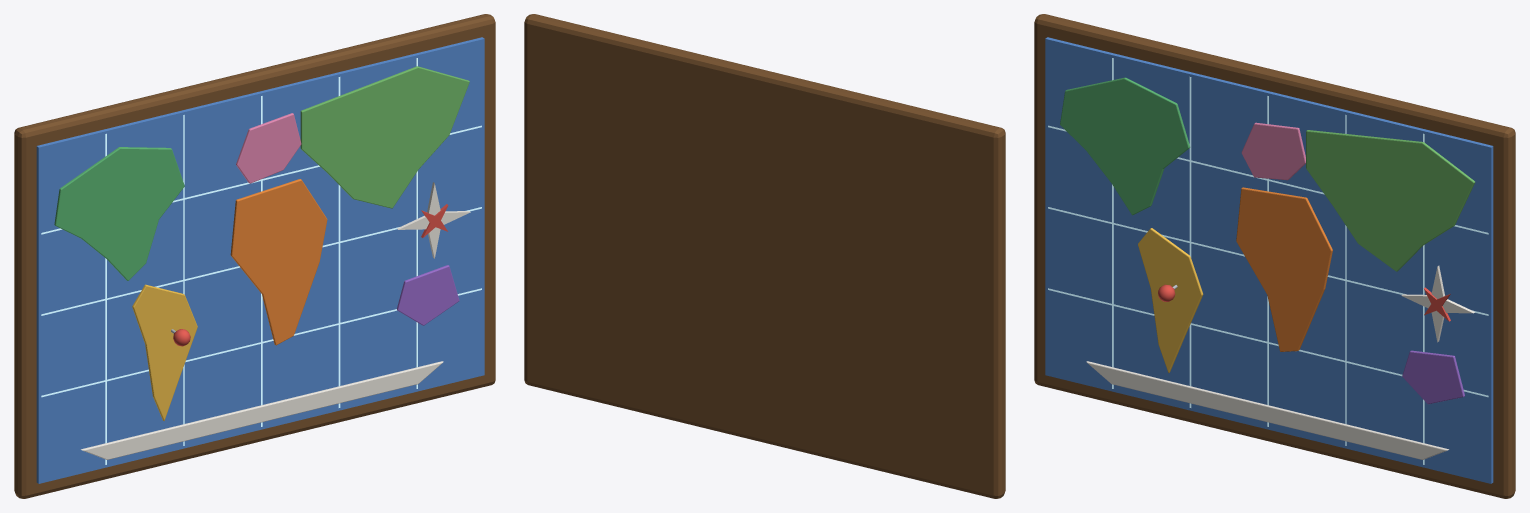
The model's file is mapa-mundi.glb.
3 renders of one model, left to right at view 1: azimuth 30°, elevation 25°; view 2: azimuth 150°, elevation 25°; view 3: azimuth 330°, elevation 25°, orthographic.
Parts seen in each view (by area): view 1: mapa-mundi; view 2: mapa-mundi; view 3: mapa-mundi.
Part boxes in pixels (x1,y1,x2,y2): mapa-mundi: (14, 14, 495, 498); mapa-mundi: (524, 14, 1005, 498); mapa-mundi: (1034, 14, 1515, 498).
Size of the model in its own units: 1.84 by 1.36 by 0.178.
